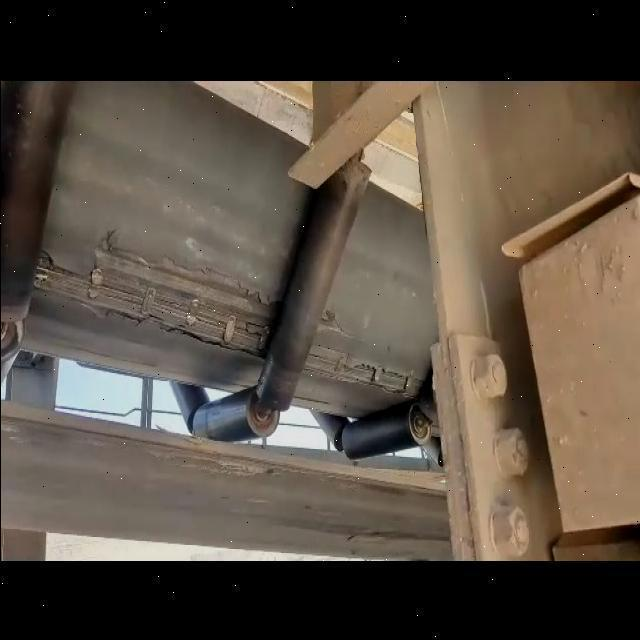Tear: (34, 225, 280, 362), (303, 305, 425, 403)
